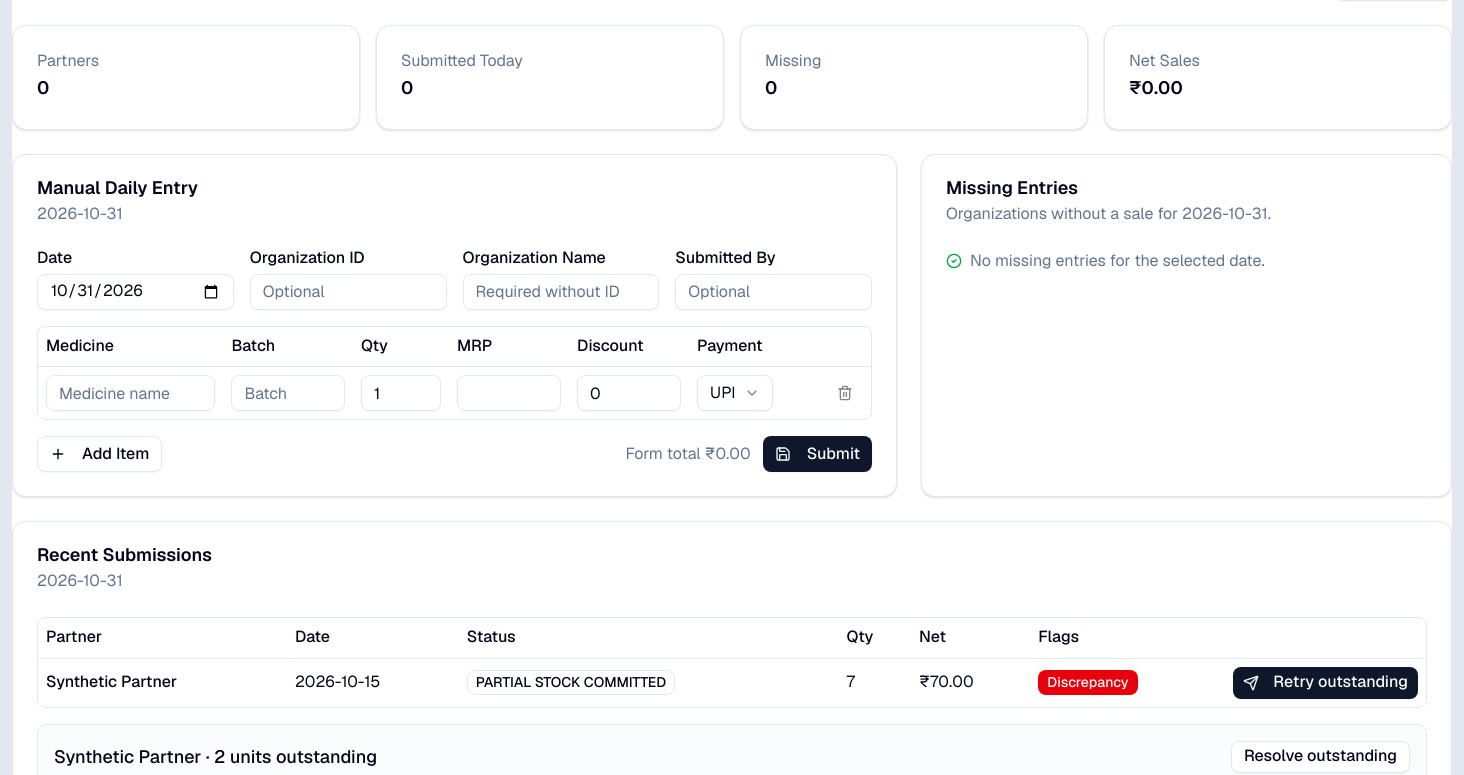
Test: shows a useful empty-match fallback and preserves the submitted sale
Click the button "Resolve outstanding" at (1320, 756), box [1231,740,1410,772]
(page scrolled)
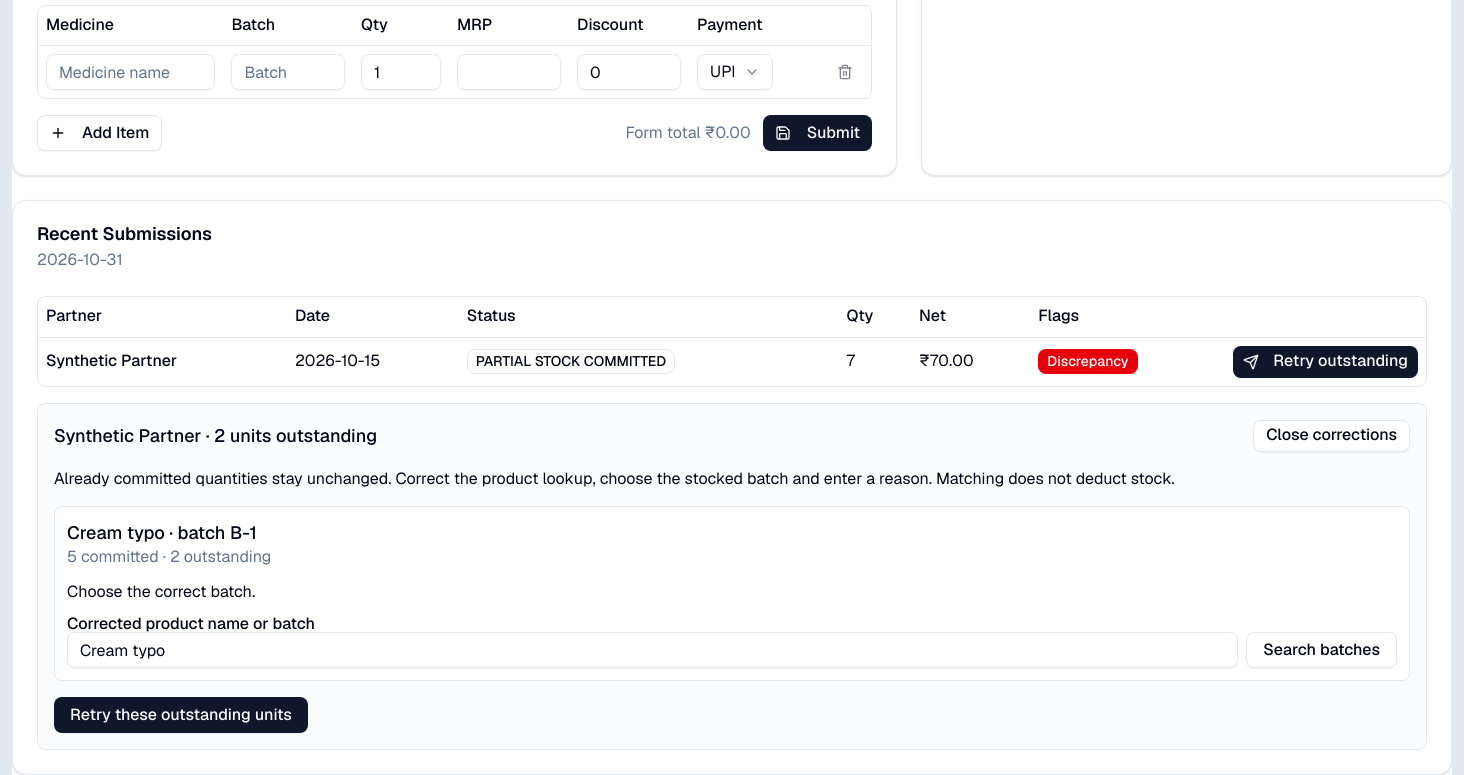
Click the button "Search batches" at (1322, 650), box [1246,632,1397,668]
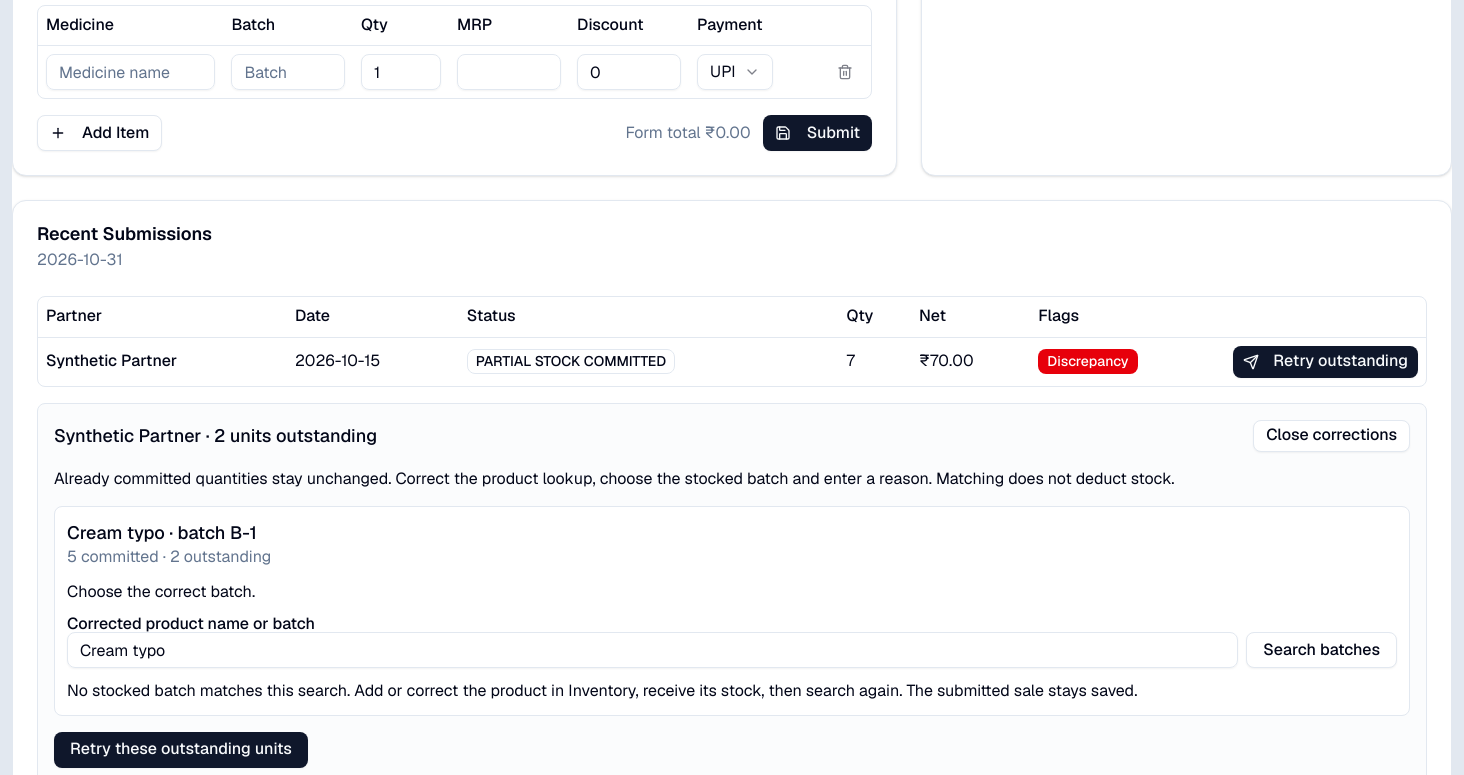
Expected: the text "Add or correct the product in Inventory" shows "The submitted sale stays saved", [67,680,1137,701]
